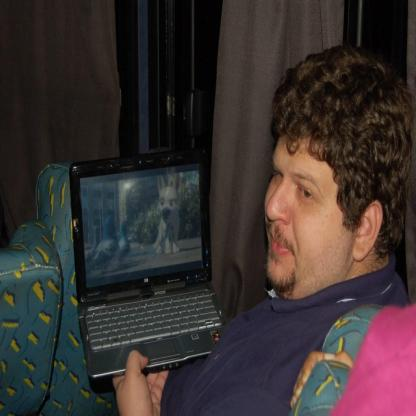board: (64, 150, 233, 390)
